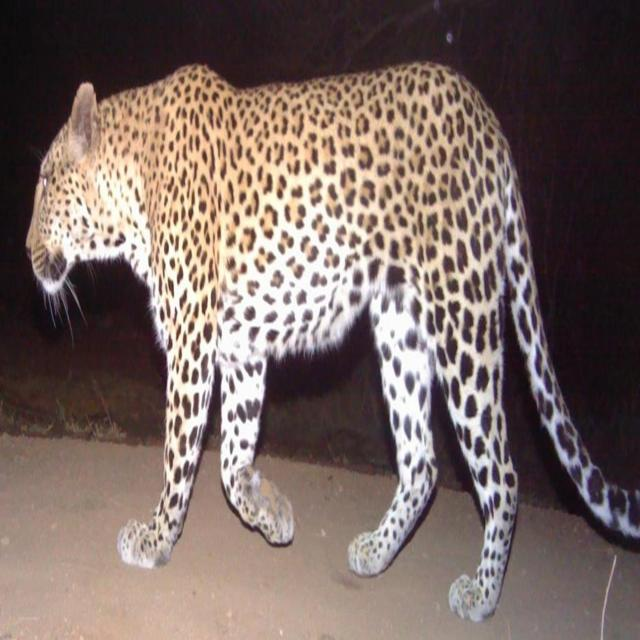Leopard: (25, 65, 640, 600)
